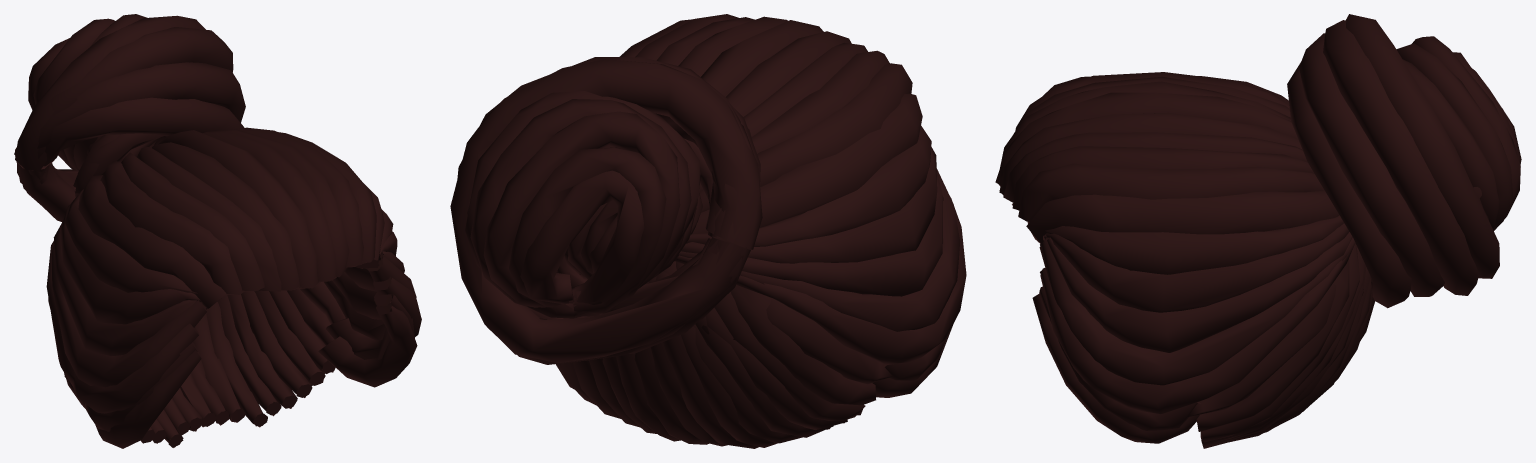
The model's file is hair-7-a8f7a6cd.glb.
3 views of the same model, side by side, from view 1: azimuth 30°, elevation 25°; view 2: azimuth 150°, elevation 25°; view 3: azimuth 270°, elevation 25° (orthographic). The views are drawn at different scales.
Visible parts, largest first — view 1: hair_7.001; view 2: hair_7.001; view 3: hair_7.001.
Boxes of the visible parts, <box> form: hair_7.001: <box>14,14,421,448</box>; hair_7.001: <box>450,14,966,448</box>; hair_7.001: <box>995,14,1521,448</box>.
Bounding box in the file's own units: 1.82 × 1.95 × 2.37.
